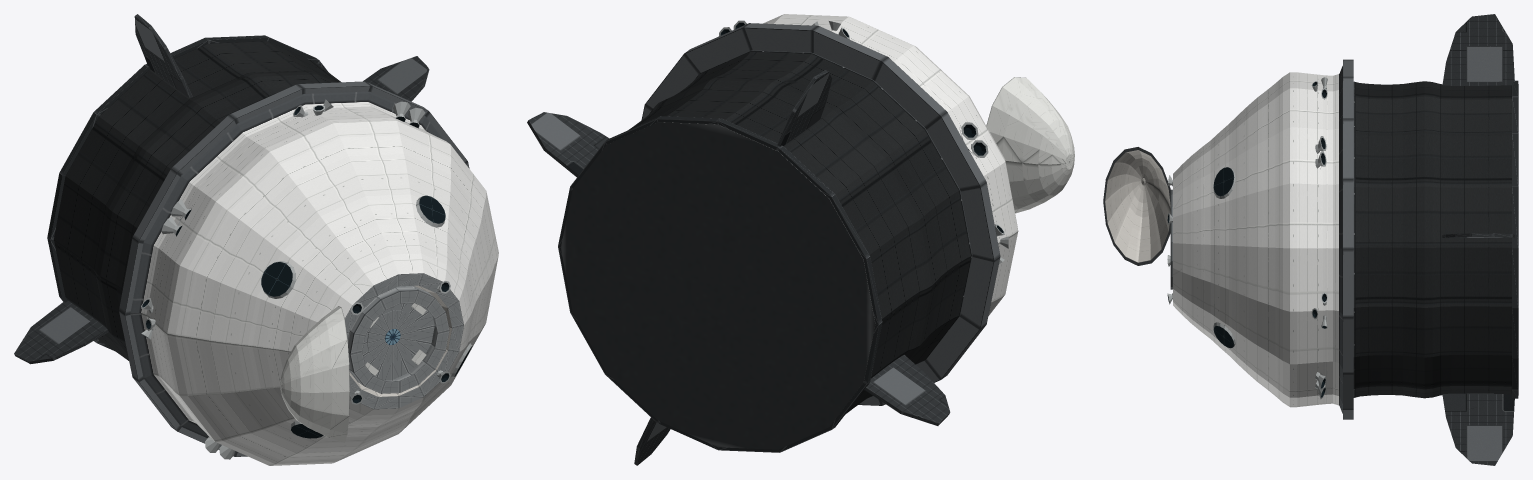
The model's file is PFL_CrewDragon.obj.
3 renders of one model, left to right at view 1: azimuth 30°, elevation 25°; view 2: azimuth 150°, elevation 25°; view 3: azimuth 270°, elevation 25°, orthographic. The views are drawn at different scales.
Parts seen in each view (by area): view 1: PFL_CrewDragon; view 2: PFL_CrewDragon; view 3: PFL_CrewDragon.
Part boxes in pixels (<box>): PFL_CrewDragon: <box>14,14,498,465</box>; PFL_CrewDragon: <box>527,14,1074,465</box>; PFL_CrewDragon: <box>1103,14,1518,465</box>.
Bounding box in the file's own units: 1 × 1 × 1.
Materials: 1 (1 with a texture image).
